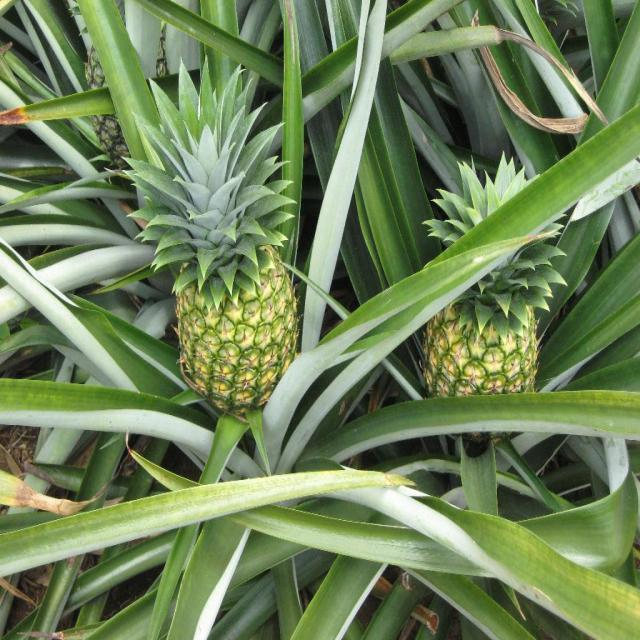Pineapple: (120, 54, 300, 412), (422, 152, 575, 443), (66, 0, 172, 172)
